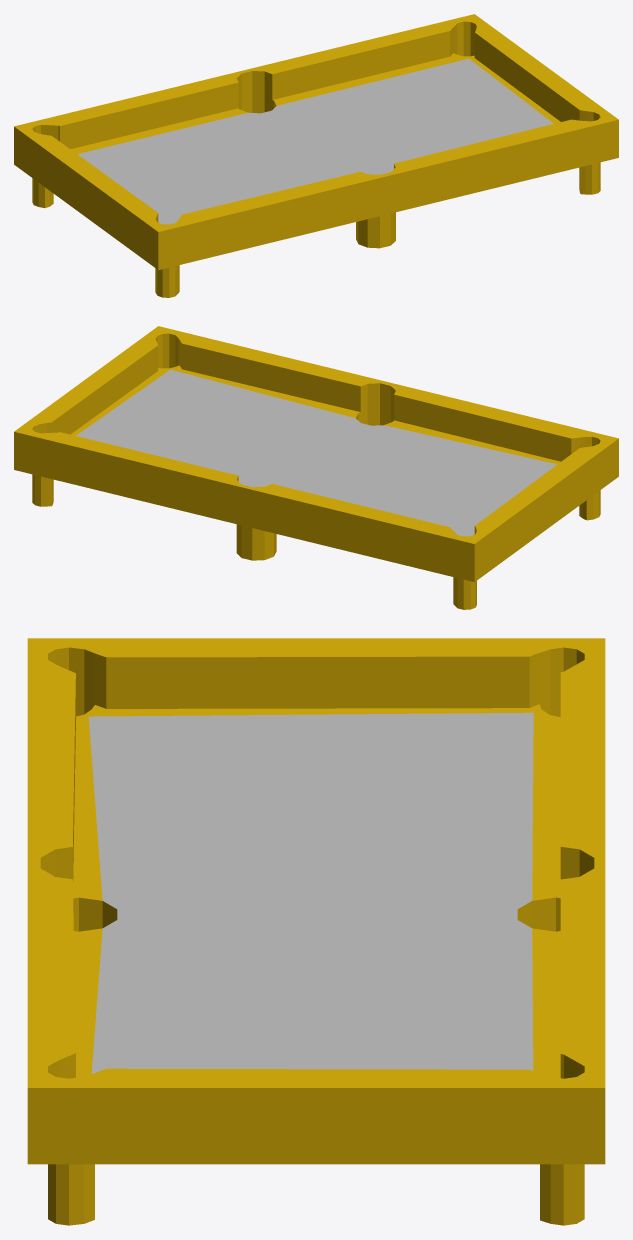
File: Table2.fbx
3 views of the same model, one above another, from view 1: azimuth 30°, elevation 25°; view 2: azimuth 150°, elevation 25°; view 3: azimuth 270°, elevation 25° (orthographic). The views are drawn at different scales.
Parts seen in each view (by area): view 1: polySurface1; view 2: polySurface1; view 3: polySurface1.
Boxes of the visible parts, x1,y1,x2,y2 form: polySurface1: (14, 14, 618, 297); polySurface1: (14, 326, 618, 609); polySurface1: (27, 638, 605, 1225).
Bounding box in the file's own units: 291 × 44.28 × 158.
